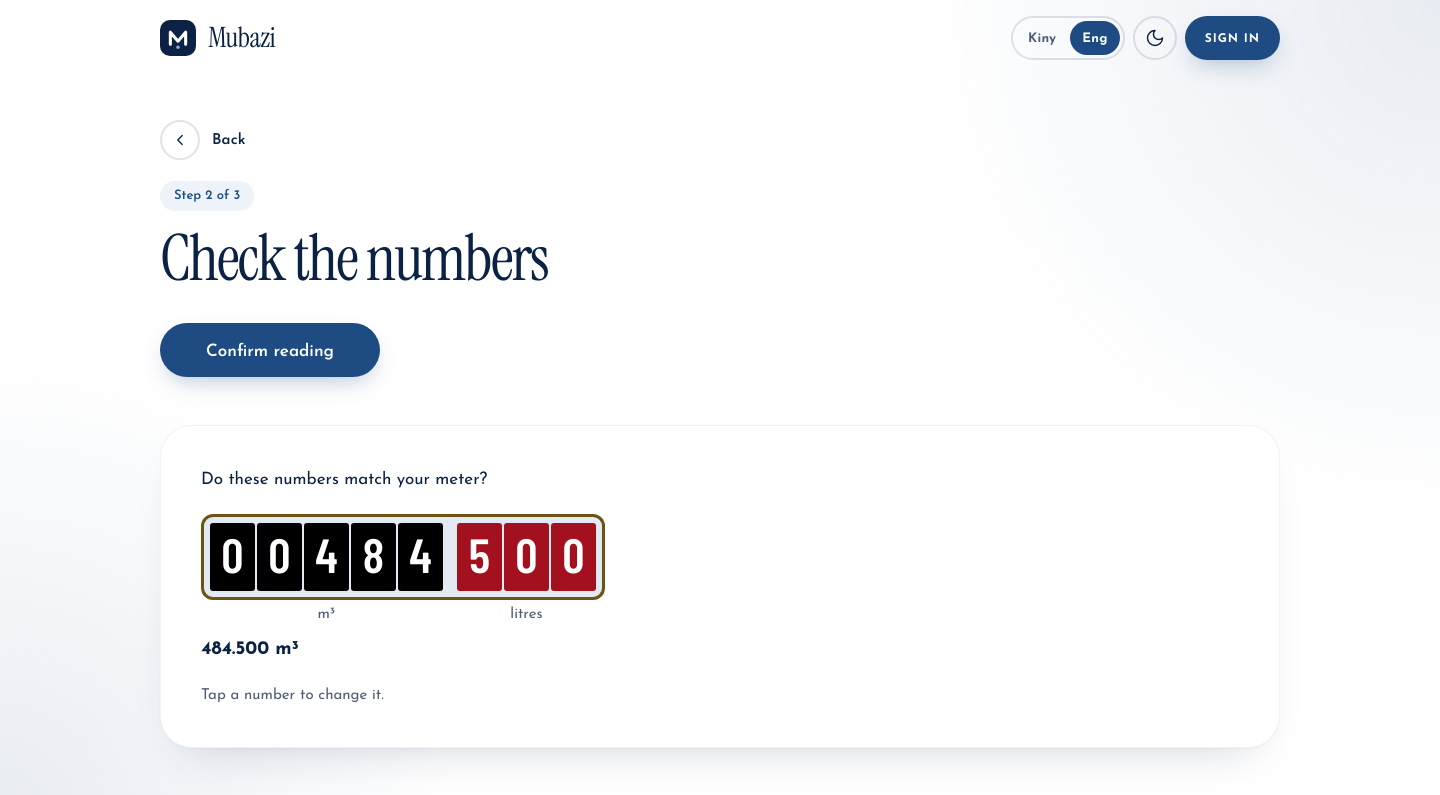
ConfirmReading › when the reason is high_use, should say so in plain words
Click the button "Confirm reading": x=270, y=350 160,323 -> 380,377
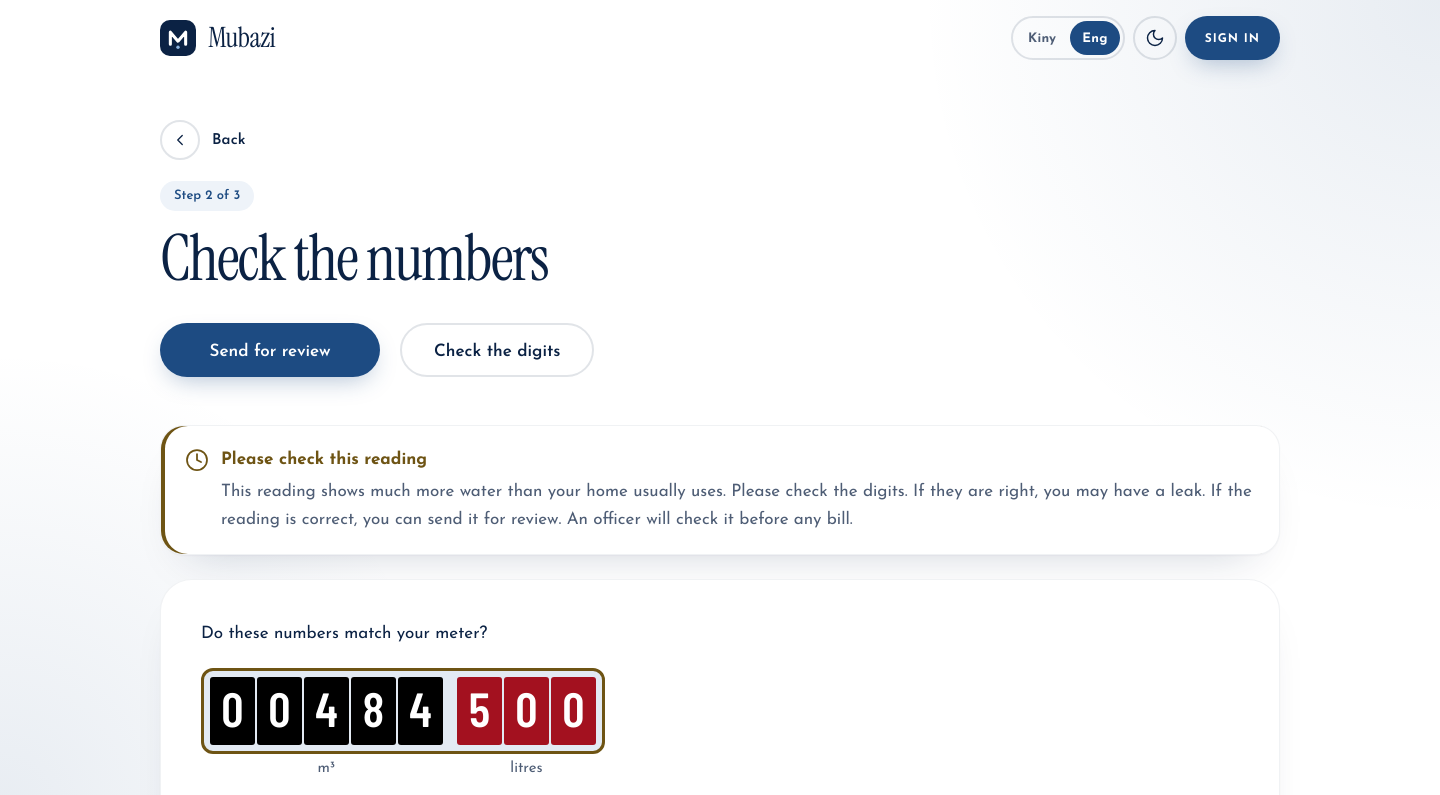
Now the message shows "much more water", box 221,483 -> 1205,500
